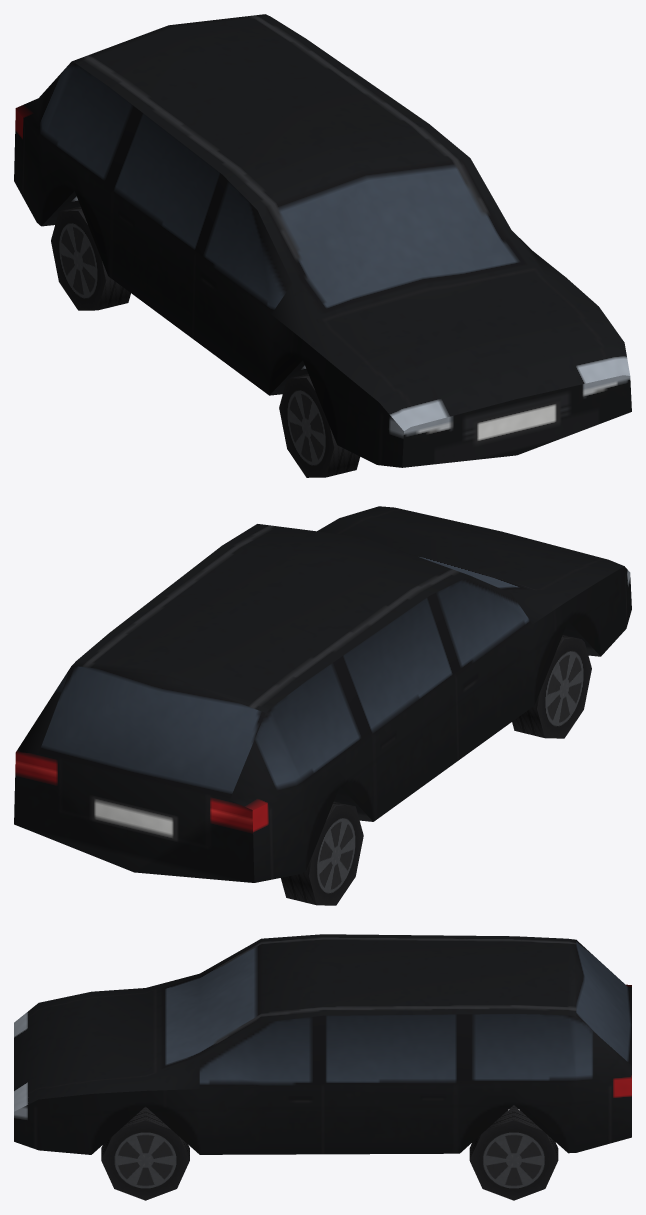
The model's file is SM_Morin_Auto_C_v2_Nero_LOD2.fbx.
The picture shows the model from 3 angles, top to bottom: view 1: azimuth 30°, elevation 25°; view 2: azimuth 150°, elevation 25°; view 3: azimuth 270°, elevation 25°; orthographic projection. The views are drawn at different scales.
Visible parts, largest first — view 1: SM_Morin_Auto_C_v2_Nero_LOD2; view 2: SM_Morin_Auto_C_v2_Nero_LOD2; view 3: SM_Morin_Auto_C_v2_Nero_LOD2.
Boxes of the visible parts, box(x1,y1,x2,y2) form: SM_Morin_Auto_C_v2_Nero_LOD2: box(14, 14, 631, 477); SM_Morin_Auto_C_v2_Nero_LOD2: box(14, 506, 631, 905); SM_Morin_Auto_C_v2_Nero_LOD2: box(14, 934, 631, 1200).
Bounding box in the file's own units: 178 × 445 × 147.
Materials: 1 (1 with a texture image).
